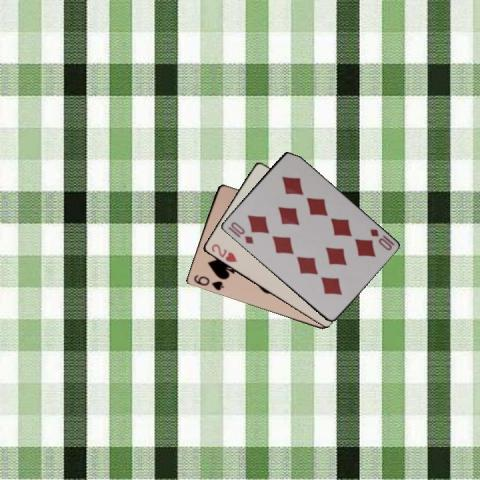10d: (367, 225, 395, 252), (227, 219, 255, 245)
2h: (208, 241, 238, 264)
6s: (191, 272, 225, 292)
